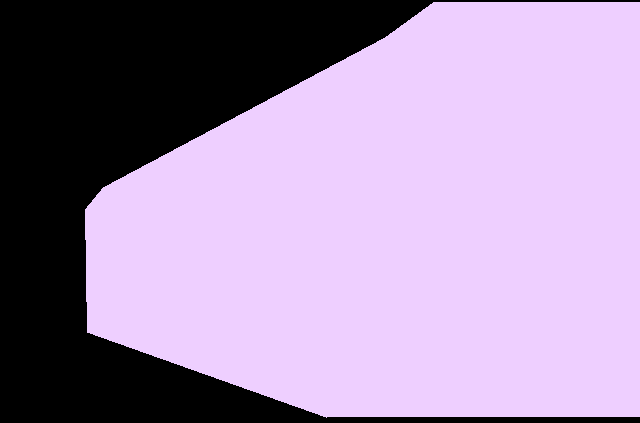Train: (85, 1, 640, 417)
